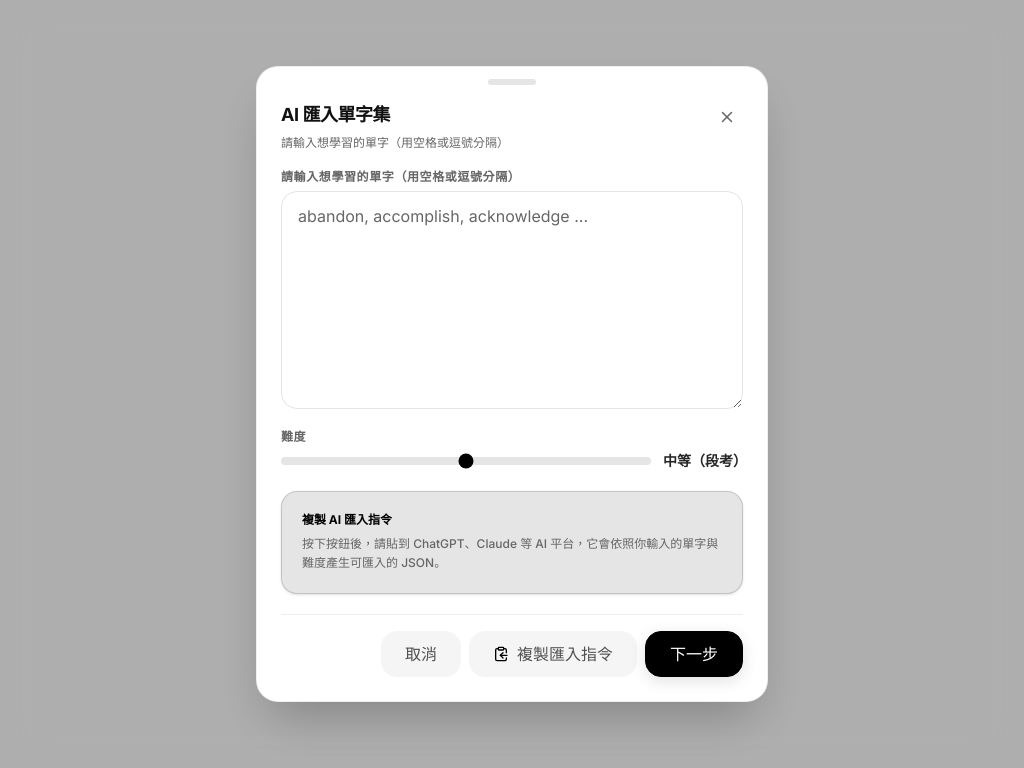
Scenario: import dialog › keeps the dialog open and shows the JSON step after clicking next
Click the button "下一步" at (694, 654), box top-left (645, 631), bottom-right (743, 677)
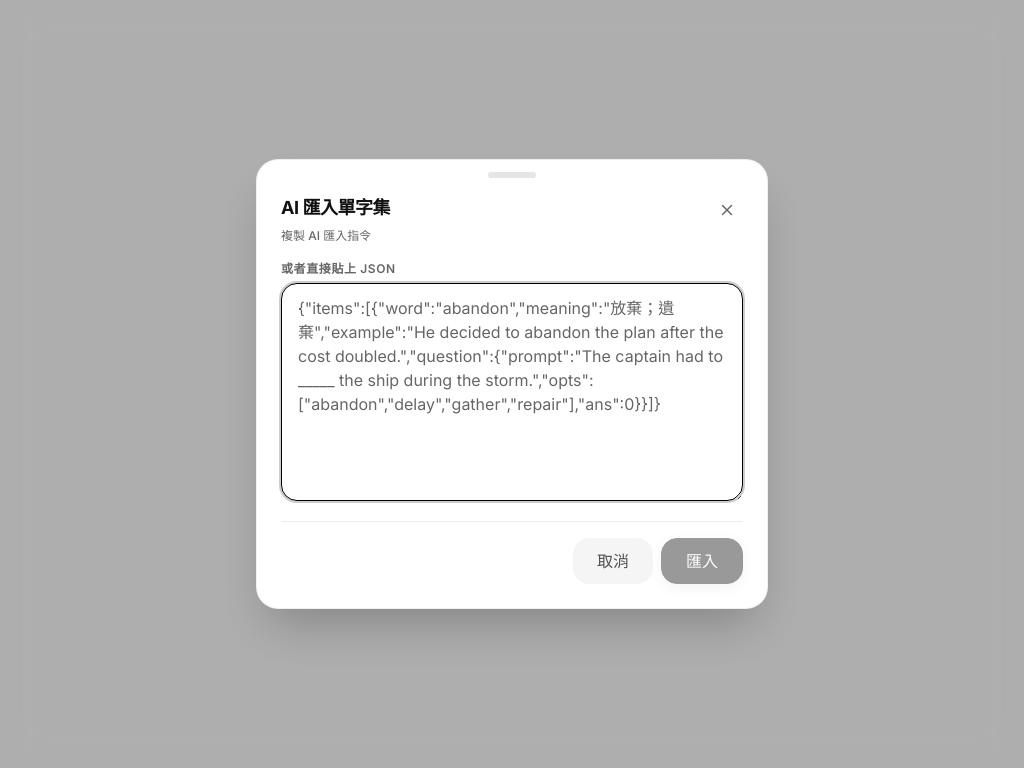
Expected: the text "匯入" is shown, top-left (281, 194), bottom-right (390, 222)
Expected: the text "或者直接貼上 JSON" is shown, top-left (281, 261), bottom-right (396, 276)
